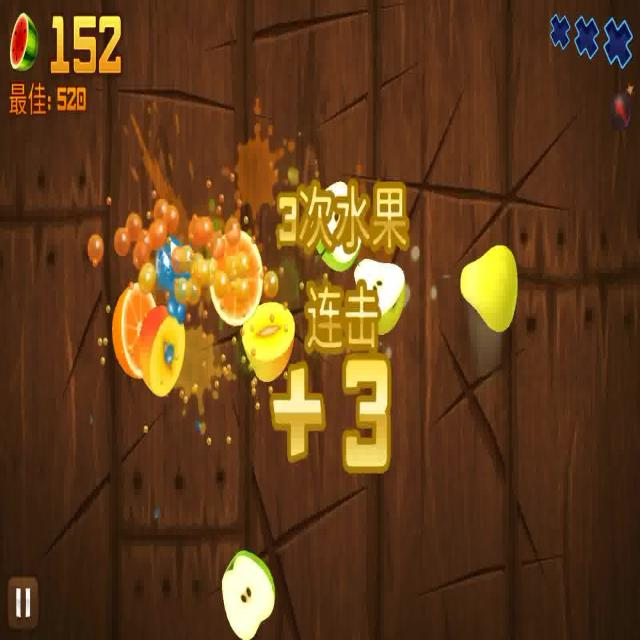fruit: (457, 241, 517, 332), (220, 549, 274, 640), (212, 230, 260, 325), (353, 256, 411, 334), (242, 302, 294, 385), (141, 302, 187, 395), (112, 282, 154, 378), (313, 182, 358, 266)
